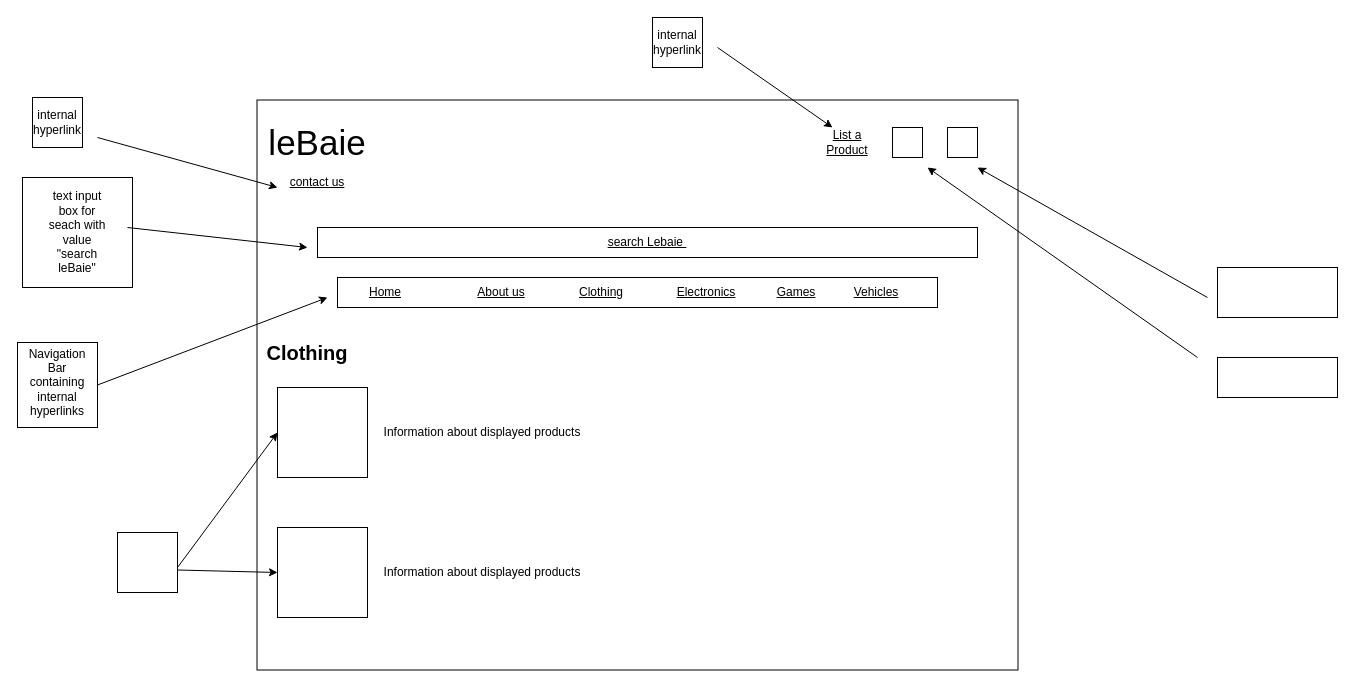
Some shapes in this 1355 by 688 pixel diagram are drawn without their labels. The box of each missing label's shape, as (x1, y1, x2, y2) in pixels:
image of product: (116, 532, 178, 592)
onclick image that takes you to "basket" page: (1216, 266, 1338, 318)
onclick image that takes you to "profile" page: (1216, 356, 1338, 398)
